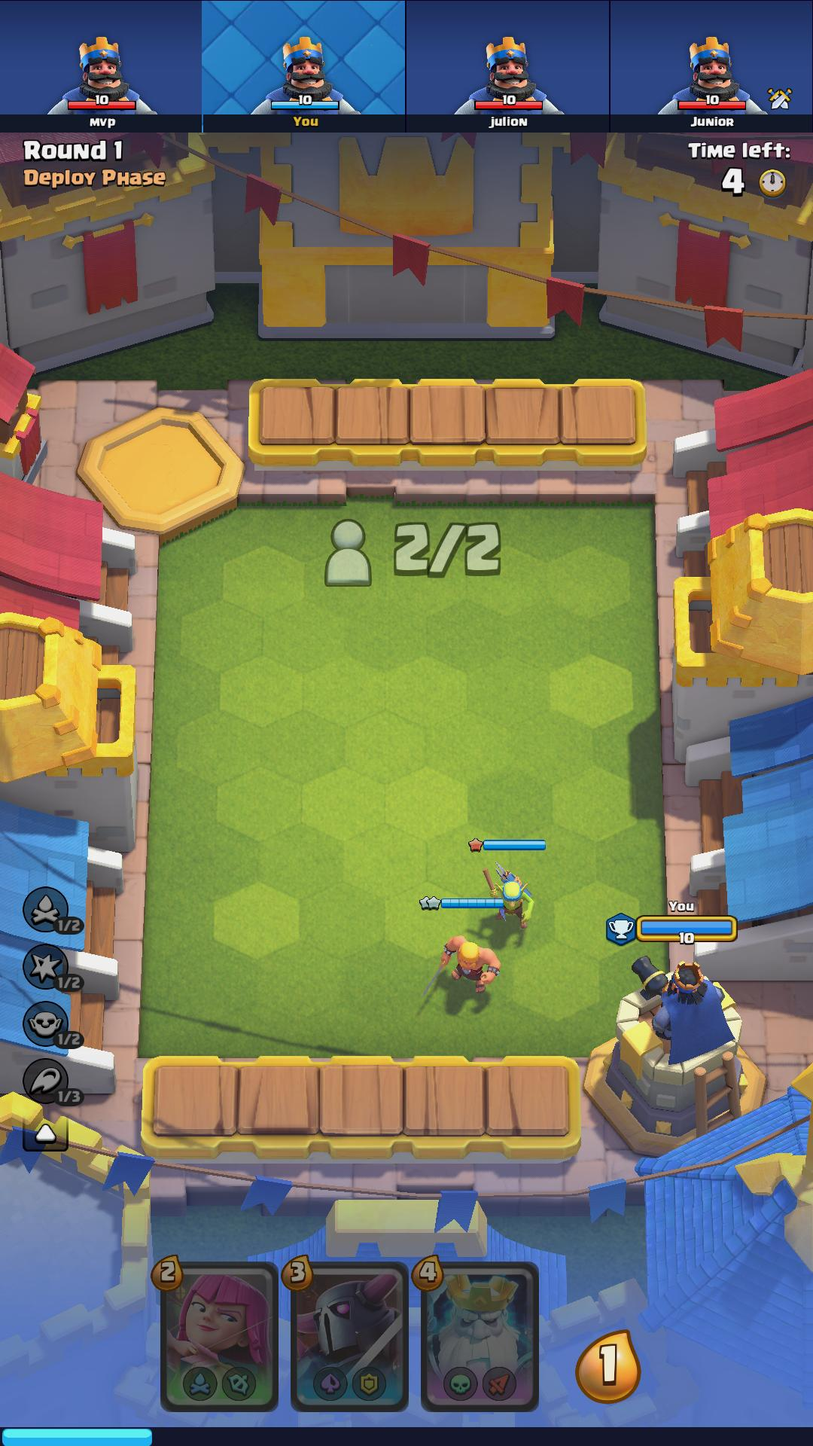barbarian: (438, 927, 499, 996)
hand-archer: (160, 1268, 275, 1408)
hand-ghost: (421, 1264, 535, 1407)
hand-pekka: (291, 1267, 407, 1409)
spear: (484, 861, 537, 932)
